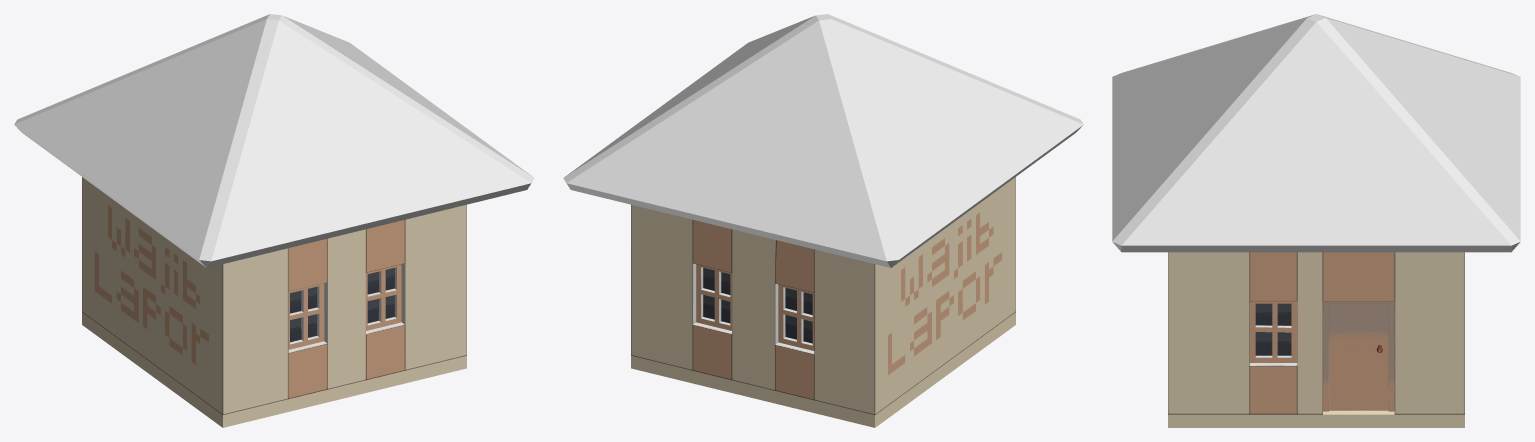
File: possatpamtextured.fbx
3 renders of one model, left to right at view 1: azimuth 30°, elevation 25°; view 2: azimuth 150°, elevation 25°; view 3: azimuth 270°, elevation 25°, orthographic. The views are drawn at different scales.
Visible parts, largest first — view 1: atappossatpam.001, tembokpossatpam.001, lantaipossatpam.001, jendela.001, jendela.004; view 2: atappossatpam.001, tembokpossatpam.001, lantaipossatpam.001, jendela.008, jendela.009; view 3: atappossatpam.001, tembokpossatpam.001, pintu.001, lantaipossatpam.001, jendela.010.
Part boxes in pixels (left/top/right/bottom): atappossatpam.001: left=14, top=14, right=534, bottom=267; tembokpossatpam.001: left=82, top=177, right=466, bottom=414; lantaipossatpam.001: left=82, top=312, right=466, bottom=427; jendela.001: left=288, top=282, right=327, bottom=352; jendela.004: left=366, top=263, right=404, bottom=334; atappossatpam.001: left=563, top=14, right=1083, bottom=267; tembokpossatpam.001: left=631, top=177, right=1015, bottom=414; lantaipossatpam.001: left=631, top=312, right=1015, bottom=427; jendela.008: left=775, top=283, right=814, bottom=354; jendela.009: left=693, top=263, right=731, bottom=334; atappossatpam.001: left=1112, top=14, right=1520, bottom=252; tembokpossatpam.001: left=1168, top=252, right=1464, bottom=414; pintu.001: left=1323, top=301, right=1394, bottom=411; lantaipossatpam.001: left=1168, top=410, right=1464, bottom=427; jendela.010: left=1249, top=301, right=1297, bottom=365.
Size of the model in its own units: 687 by 645 by 687.
5 materials, 4 textured.
